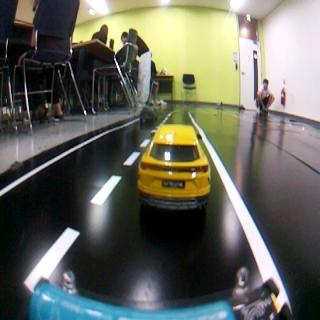car: (138, 123, 214, 226)
